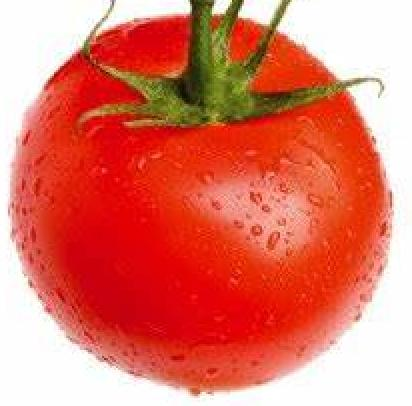tomato: (16, 18, 389, 390)
